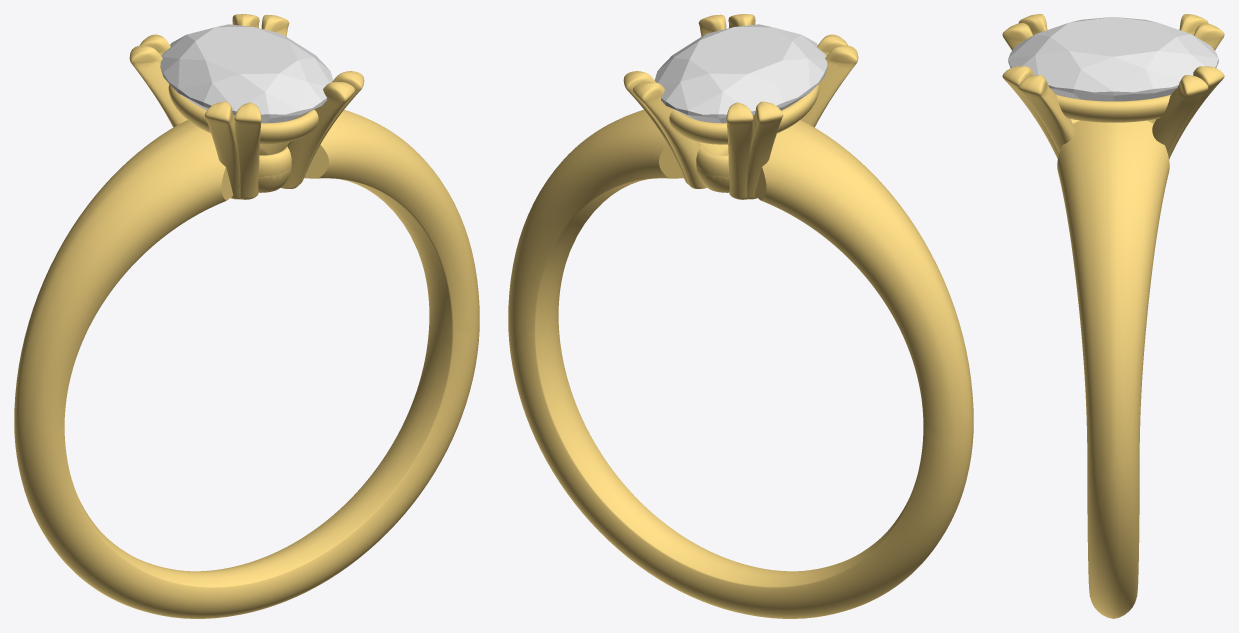
Rendered from CamYGovalEng_blender.glb.
The picture shows the model from 3 angles, left to right: view 1: azimuth 30°, elevation 25°; view 2: azimuth 150°, elevation 25°; view 3: azimuth 270°, elevation 25°; orthographic projection.
Visible parts, largest first — view 1: V1 Cam YG for 3d model, Cam oval dia for 3d model; view 2: V1 Cam YG for 3d model, Cam oval dia for 3d model; view 3: V1 Cam YG for 3d model, Cam oval dia for 3d model.
Boxes of the visible parts, bbox=[...] form: V1 Cam YG for 3d model: bbox=[14, 14, 479, 618]; Cam oval dia for 3d model: bbox=[160, 24, 333, 123]; V1 Cam YG for 3d model: bbox=[508, 14, 973, 618]; Cam oval dia for 3d model: bbox=[654, 24, 827, 123]; V1 Cam YG for 3d model: bbox=[1002, 14, 1224, 618]; Cam oval dia for 3d model: bbox=[1008, 17, 1218, 101].
Size of the model in its own units: 20.1 by 23.41 by 8.45.
